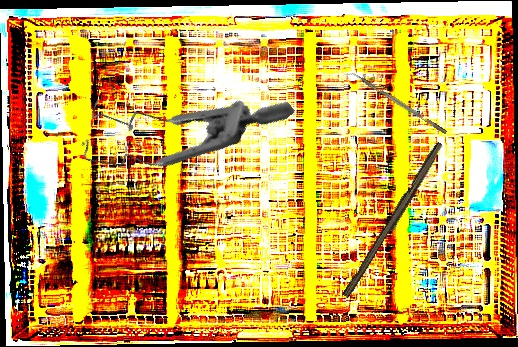Chopper: (345, 68, 448, 139)
Scalpel Handle: (342, 140, 446, 301)
Speculum: (61, 8, 296, 233)
